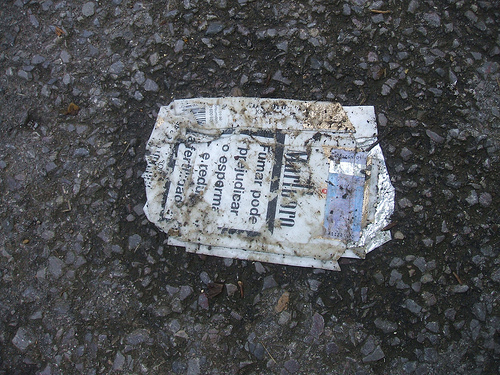litter: (141, 94, 396, 273)
